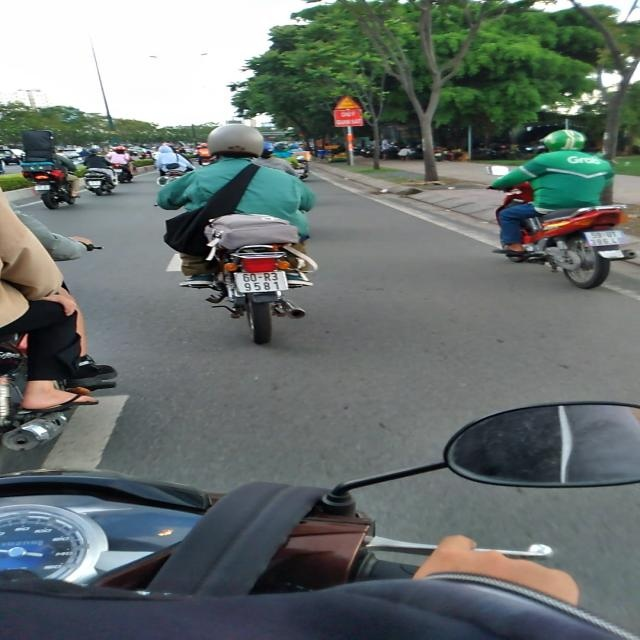bien_cam: (333, 95, 362, 110)
